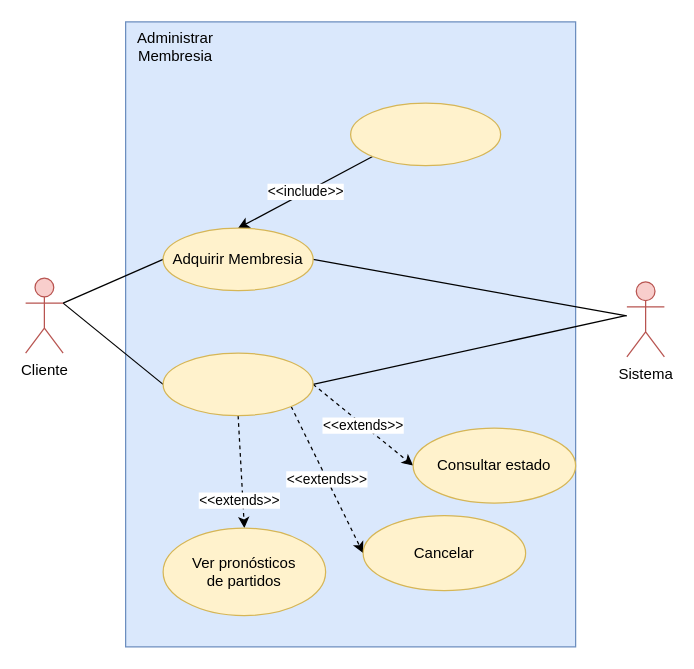
Some shapes in this 694 by 669 pixel diagram are drawn without their labels. The shapes that lost their labels are listed below. From the top down, each one's box as (x1, y1, x2, y2) in pixels, then its label:
(349, 102, 501, 166): Realiza transaccion
(162, 352, 313, 416): Control Membresia
